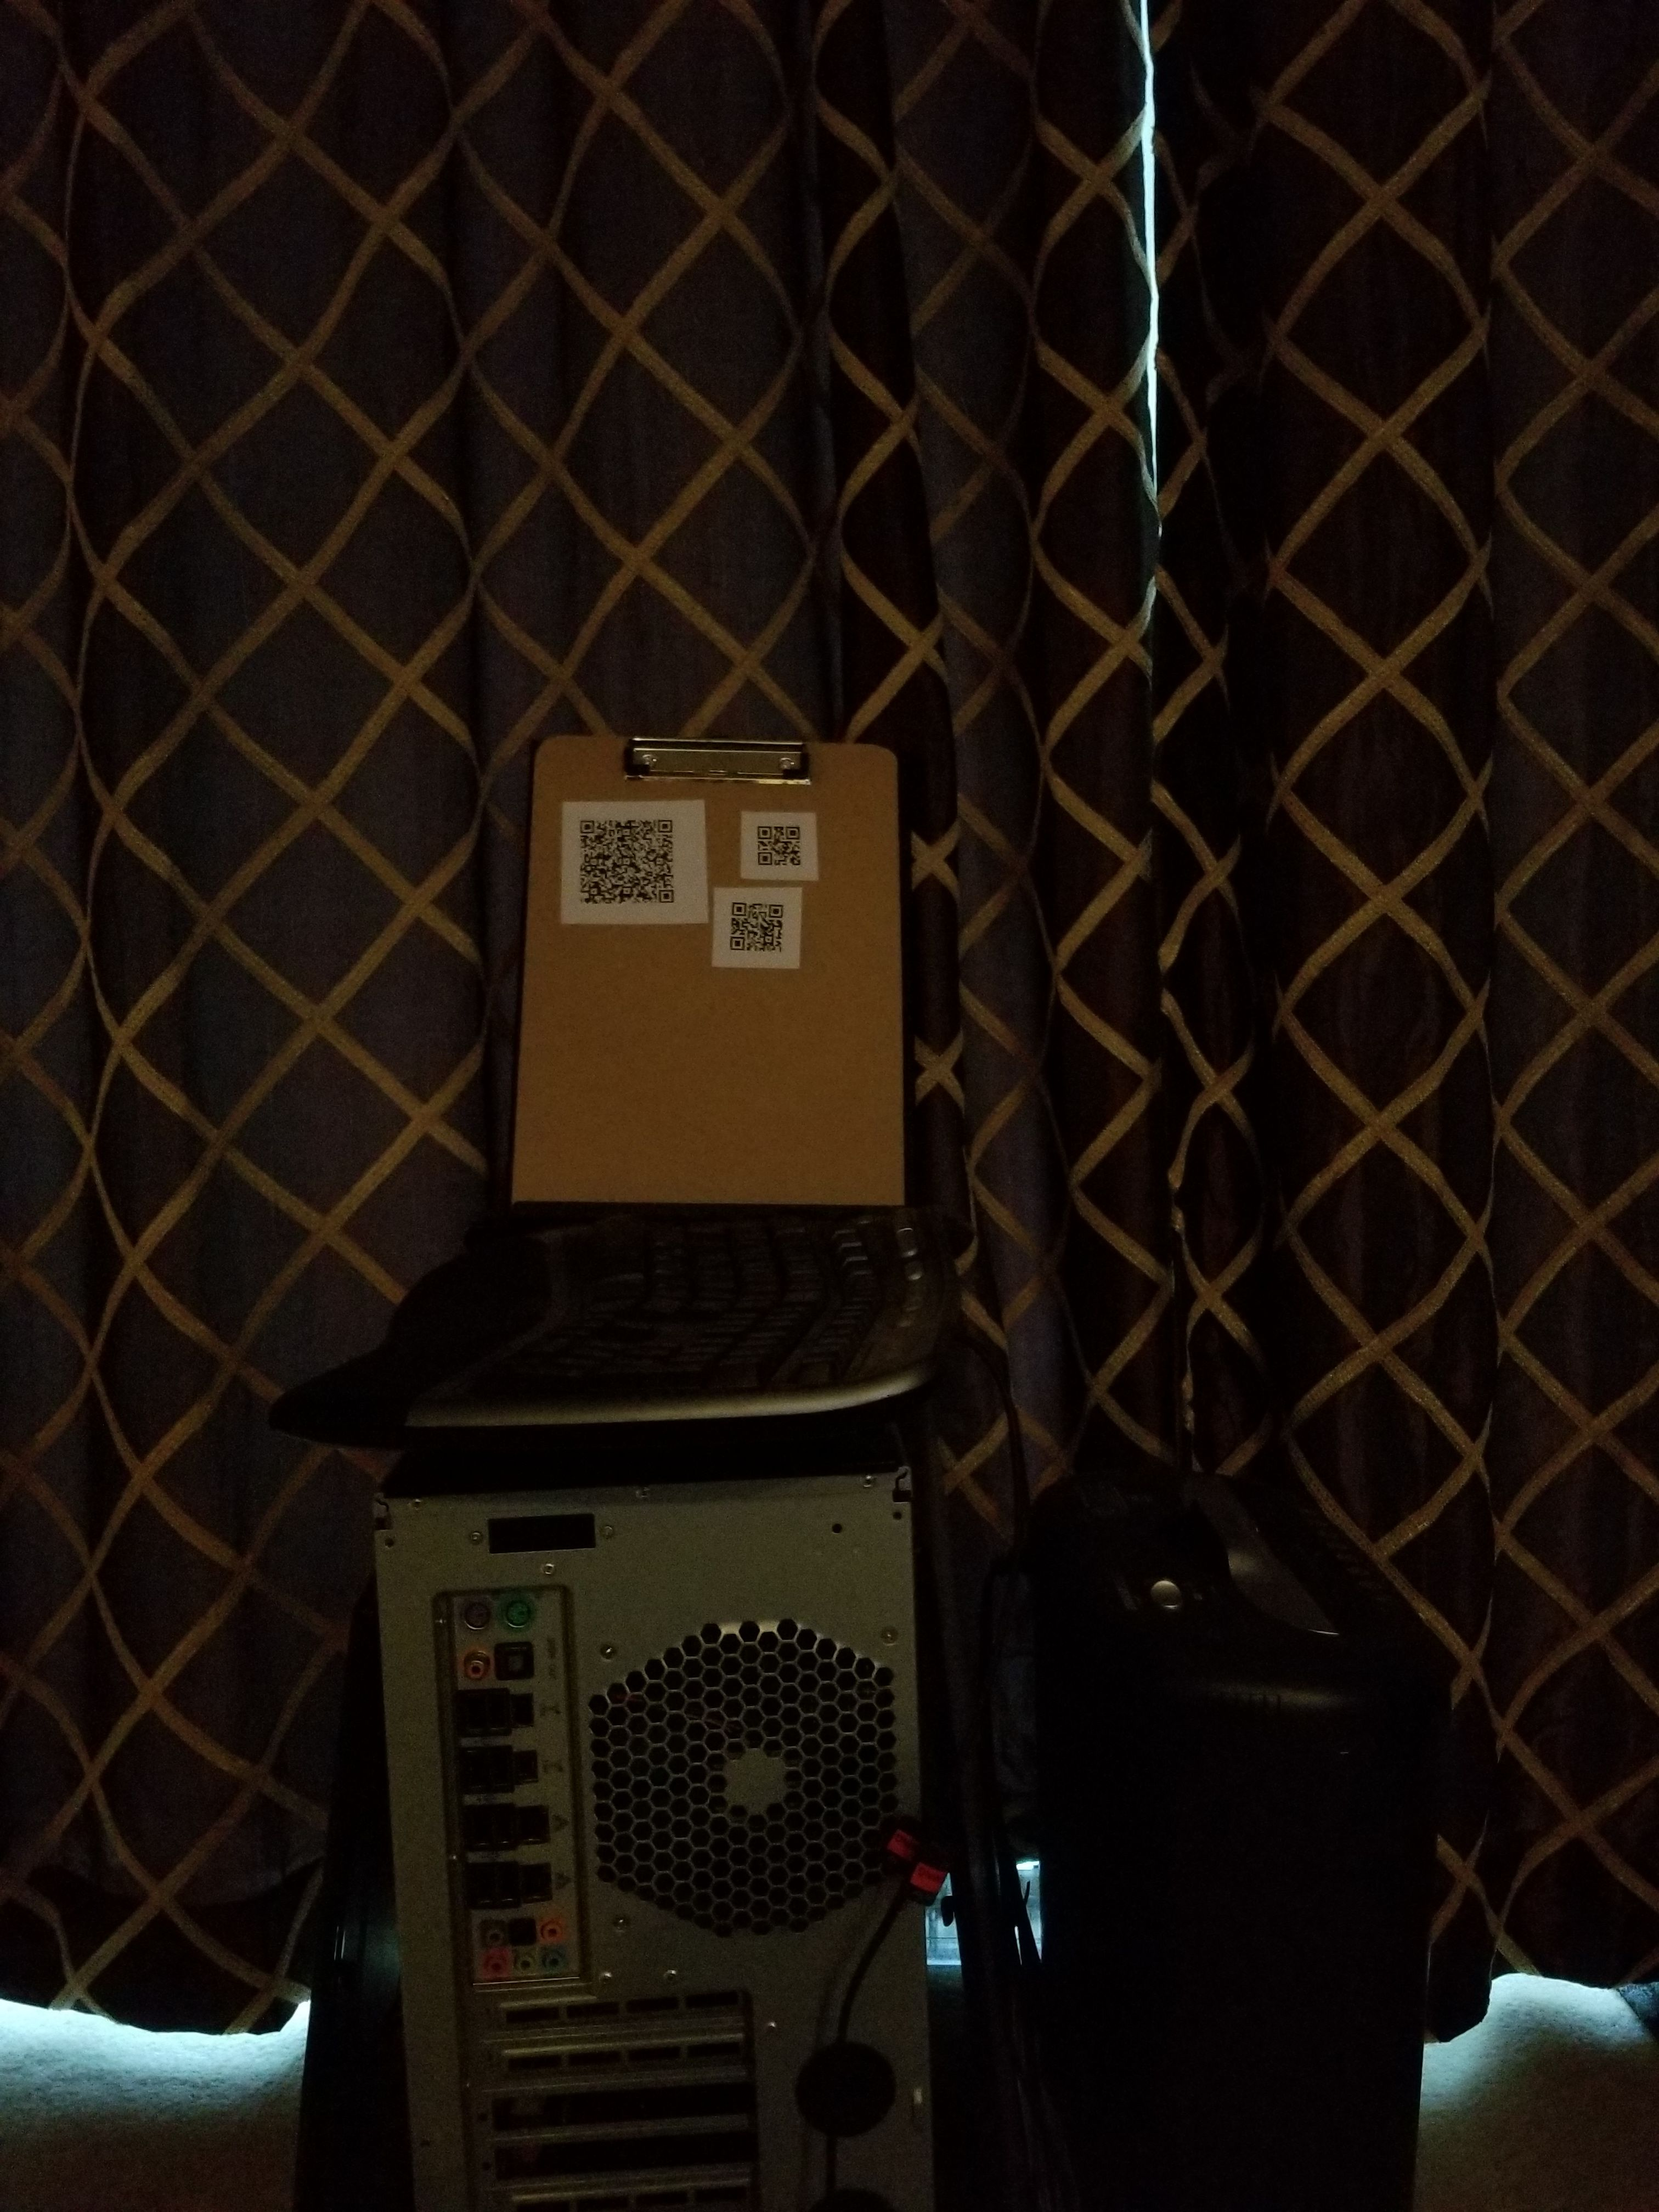QR_CODE: (565, 792, 690, 925), (723, 888, 805, 988), (746, 808, 826, 880)
